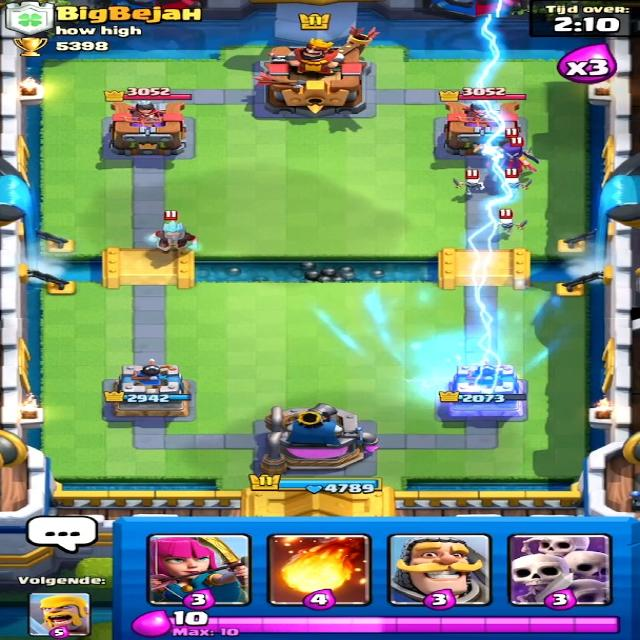Enemy_Ice_Wizard_Troop: (146, 218, 205, 262)
Enemy_Skeleton_Troop: (454, 174, 487, 196), (494, 220, 530, 232), (505, 177, 532, 192)
Enemy_Witch_Troop: (483, 144, 537, 180)
Fireball_Card: (271, 532, 370, 608)
